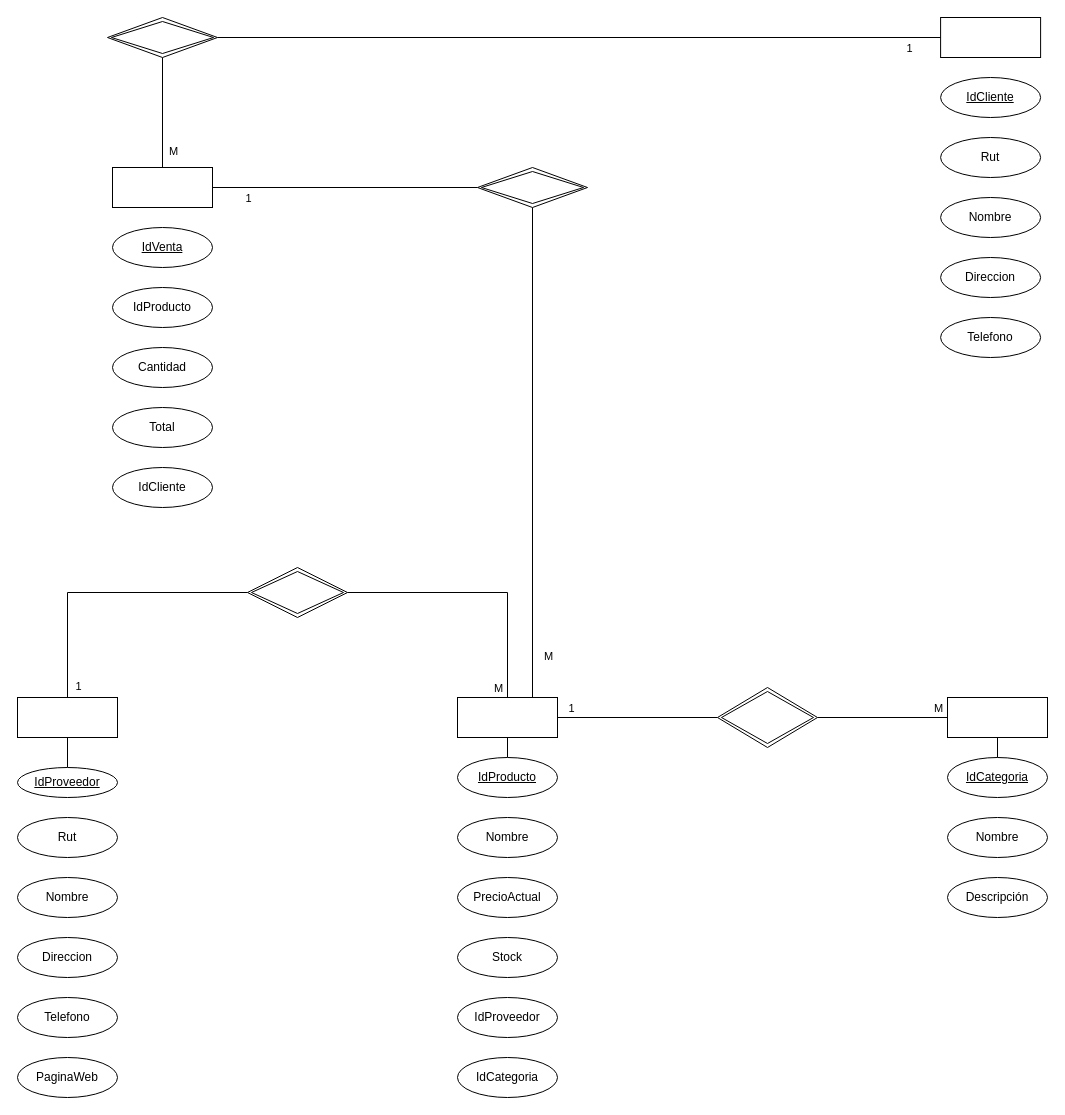
Image size: 1065x1115. Some labels were removed from this diagram. The shapes that lost their labels are listed below. From the top down, each one's centre as x and y in pixels, then its label:
At [990,37]: "clientes".
At [162,187]: "Ventas".
At [67,717]: "proveedor".
At [507,717]: "productos".
At [997,717]: "Categorias".
